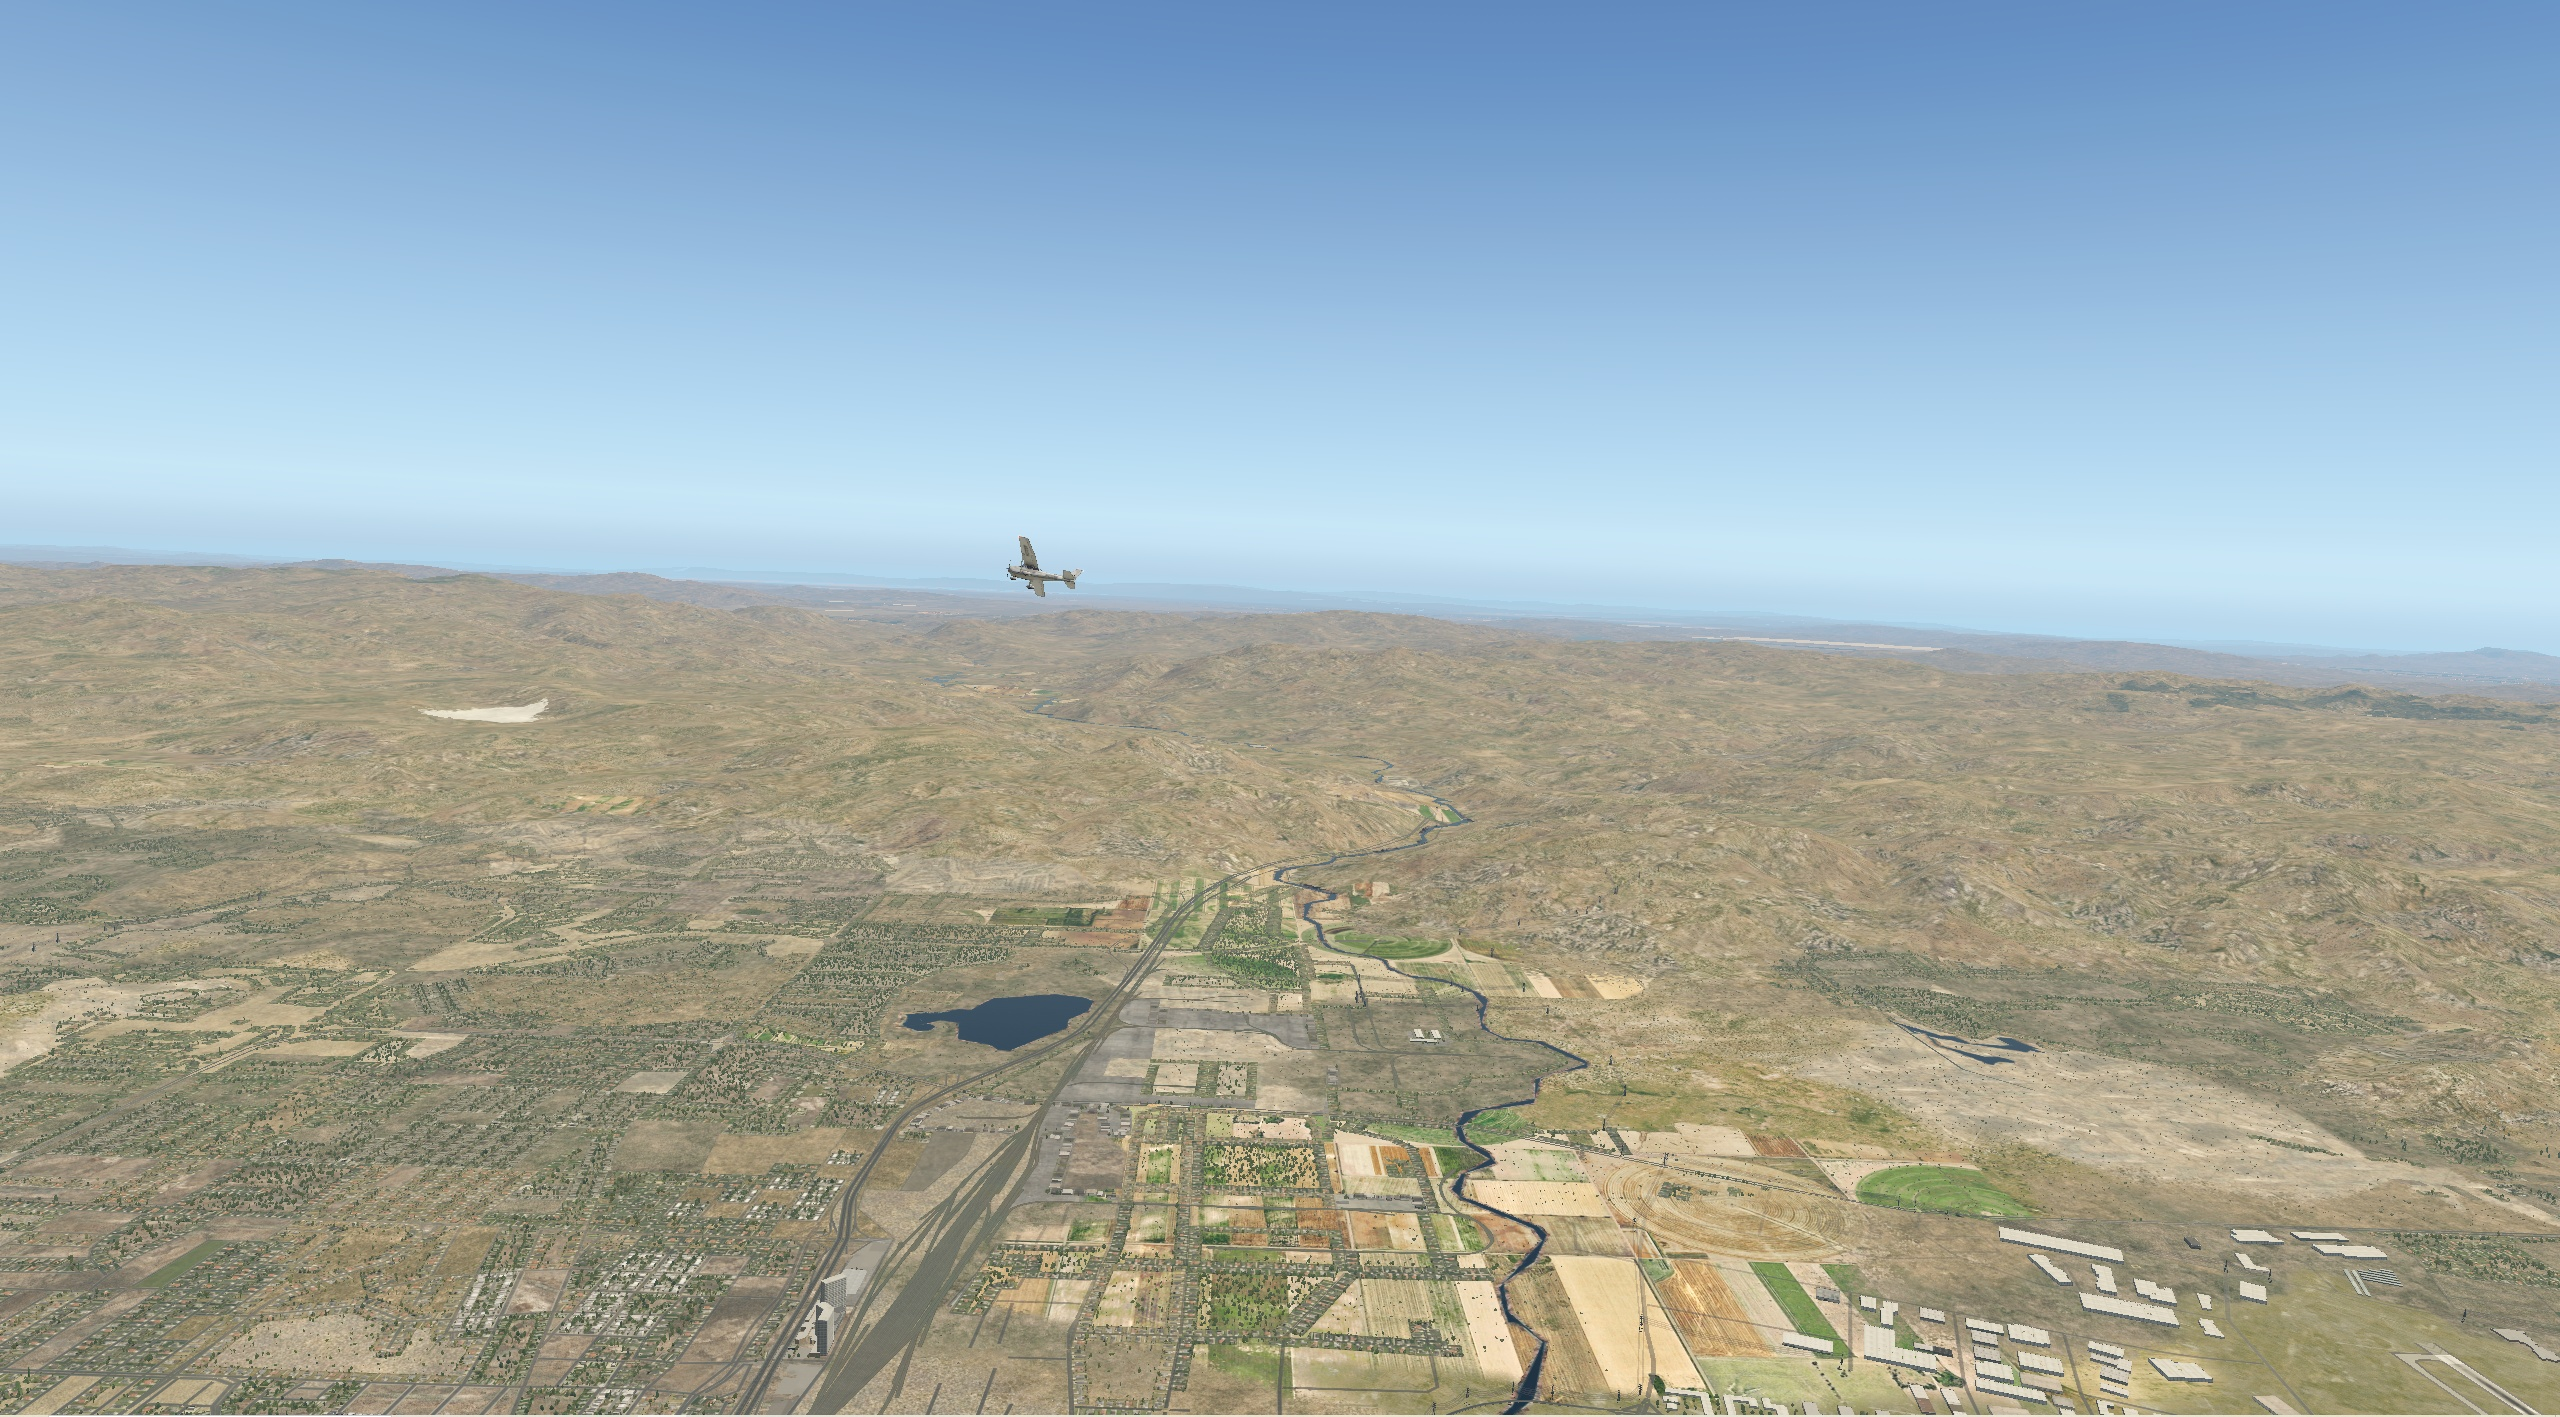aircraft: (969, 550, 1087, 595)
